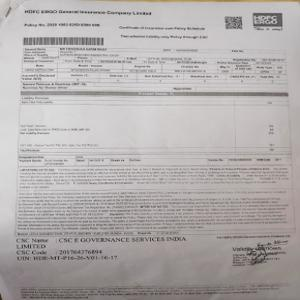image: (251, 9, 284, 25)
table: (18, 92, 293, 167), (21, 46, 288, 92)
text: (19, 192, 292, 228), (15, 234, 187, 262), (23, 6, 155, 19)
